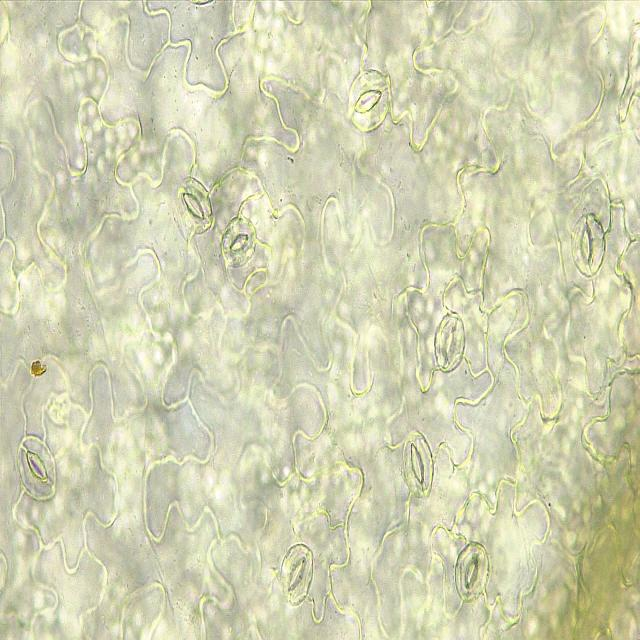Stomata: (16, 430, 58, 504), (347, 67, 392, 133), (570, 212, 608, 278), (453, 540, 492, 604), (403, 429, 437, 500), (279, 541, 315, 606), (432, 310, 467, 375), (176, 175, 213, 236), (220, 214, 258, 269)
